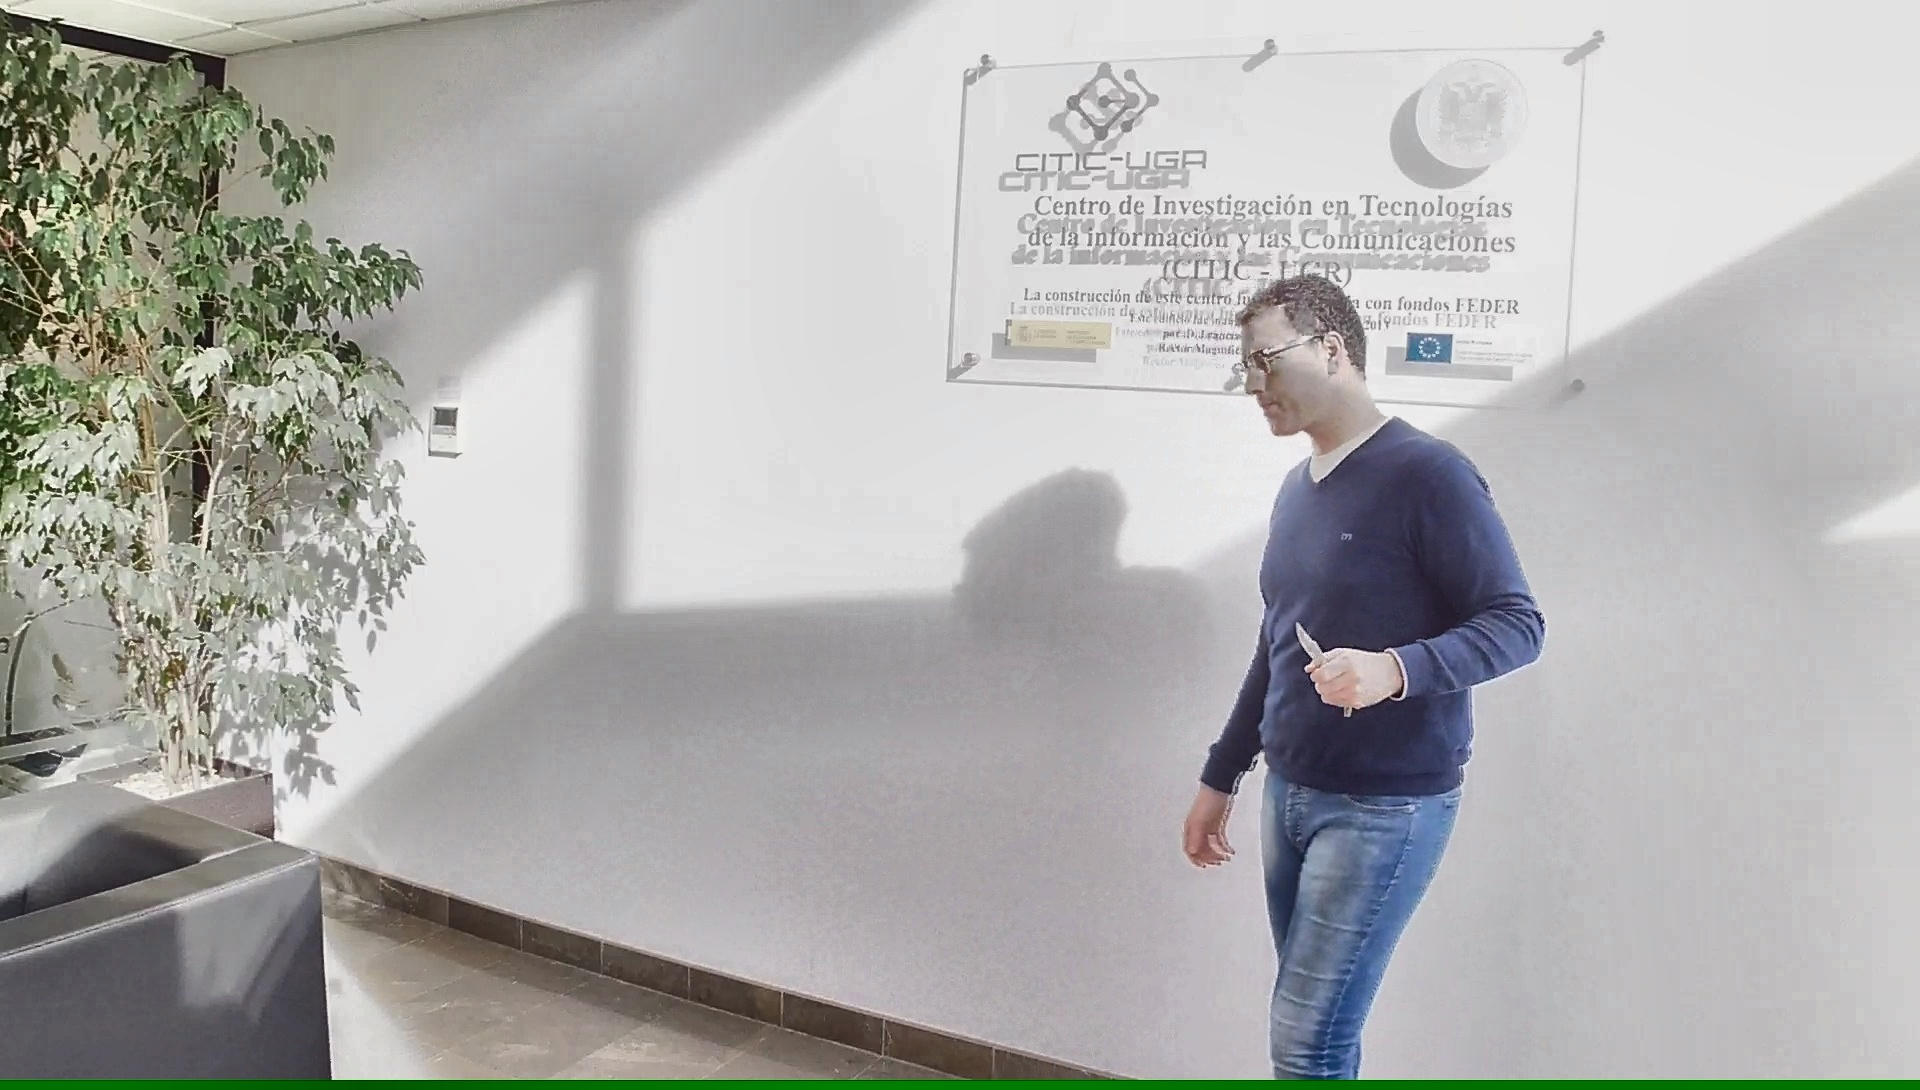knife: (1288, 613, 1360, 721)
